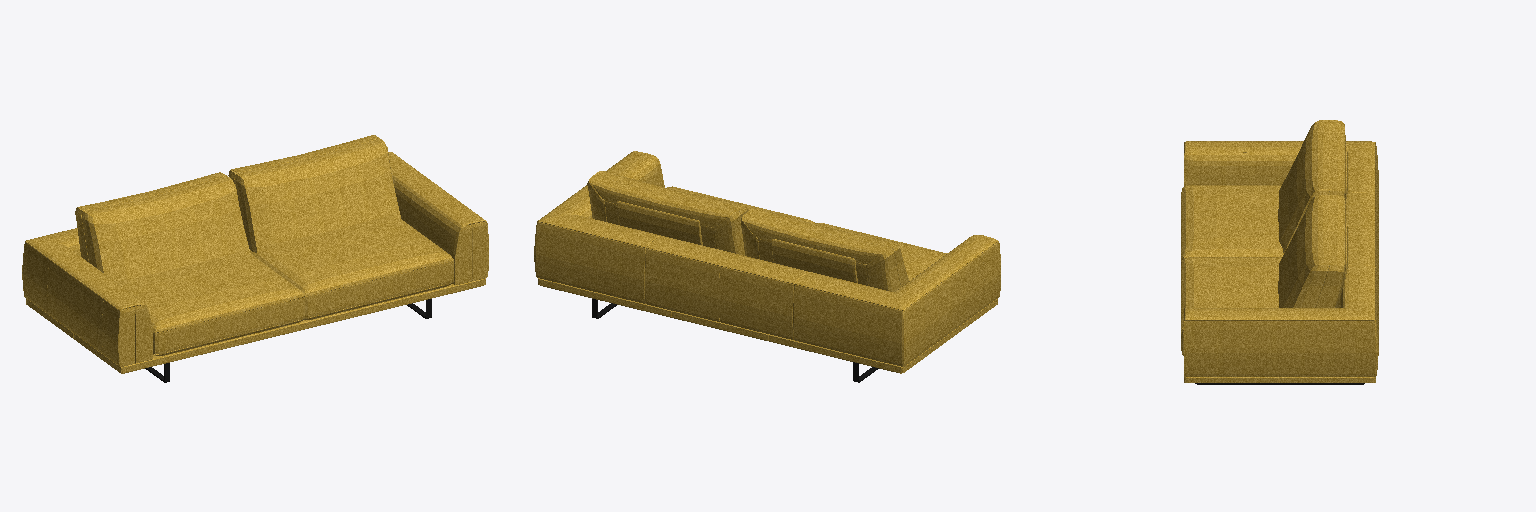
3 views of the same model, side by side, from view 1: azimuth 30°, elevation 25°; view 2: azimuth 150°, elevation 25°; view 3: azimuth 270°, elevation 25° (orthographic).
Parts seen in each view (by area): view 1: Mesh9 Group12 Model, Mesh14 Group18 Model, Mesh4 Group5 Group3 Model, Mesh7 Group10 Group9 Model, Mesh3 Group4 Group3 Model, Mesh8 Group11 Group9 Model, Mesh12 Group16 Group15 Model, Mesh13 Group17 Group15 Model, Mesh5 Group7 Group6 Model, Mesh6 Group8 Group6 Model; view 2: Mesh4 Group5 Group3 Model, Mesh3 Group4 Group3 Model, Mesh9 Group12 Model, Mesh14 Group18 Model, Mesh11 Group14 Model, Mesh10 Group13 Model, Mesh5 Group7 Group6 Model, Mesh6 Group8 Group6 Model, Mesh13 Group17 Group15 Model; view 3: Mesh3 Group4 Group3 Model, Mesh4 Group5 Group3 Model, Mesh14 Group18 Model, Mesh9 Group12 Model, Mesh12 Group16 Group15 Model, Mesh7 Group10 Group9 Model, Mesh13 Group17 Group15 Model, Mesh8 Group11 Group9 Model, Mesh6 Group8 Group6 Model.
Boxes of the visible parts, box(x1,y1,x2,y2) form: Mesh9 Group12 Model: box(75, 172, 250, 285); Mesh14 Group18 Model: box(228, 135, 400, 252); Mesh4 Group5 Group3 Model: box(22, 228, 152, 366); Mesh7 Group10 Group9 Model: box(250, 234, 378, 319); Mesh3 Group4 Group3 Model: box(388, 152, 488, 284); Mesh8 Group11 Group9 Model: box(332, 219, 453, 302); Mesh12 Group16 Group15 Model: box(183, 254, 304, 339); Mesh13 Group17 Group15 Model: box(121, 270, 230, 355); Mesh5 Group7 Group6 Model: box(26, 299, 303, 373); Mesh6 Group8 Group6 Model: box(302, 278, 485, 329); Mesh4 Group5 Group3 Model: box(719, 235, 1000, 366); Mesh3 Group4 Group3 Model: box(534, 151, 734, 321); Mesh9 Group12 Model: box(741, 208, 908, 291); Mesh14 Group18 Model: box(587, 171, 748, 255); Mesh11 Group14 Model: box(772, 239, 857, 282); Mesh10 Group13 Model: box(616, 201, 702, 245); Mesh5 Group7 Group6 Model: box(720, 299, 997, 373); Mesh6 Group8 Group6 Model: box(538, 278, 719, 329); Mesh13 Group17 Group15 Model: box(888, 239, 947, 280); Mesh3 Group4 Group3 Model: box(1184, 229, 1378, 376); Mesh4 Group5 Group3 Model: box(1184, 141, 1378, 262); Mesh14 Group18 Model: box(1278, 195, 1345, 307); Mesh9 Group12 Model: box(1278, 120, 1345, 252); Mesh12 Group16 Group15 Model: box(1181, 215, 1283, 263); Mesh7 Group10 Group9 Model: box(1181, 257, 1281, 298); Mesh13 Group17 Group15 Model: box(1181, 185, 1281, 226); Mesh8 Group11 Group9 Model: box(1181, 288, 1278, 355); Mesh6 Group8 Group6 Model: box(1184, 377, 1375, 382).
Size of the model in its own units: 92.35 by 30.21 by 42.49.
2 materials, 1 textured.